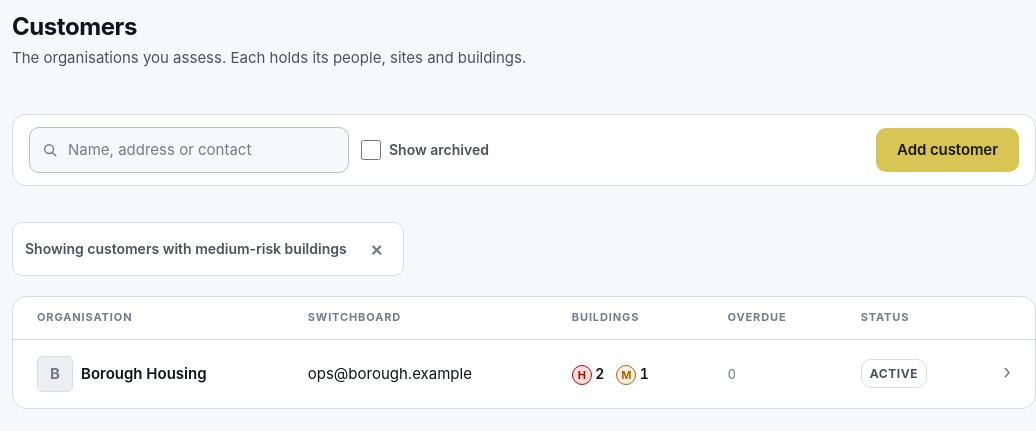
Test: CustomersList risk visibility › ?risk=medium hides customers without that level, and the chip dismisses
This screenshot has width=1036, height=431.
Expected: the text "Showing customers with medium-risk buildings" is shown, [25,240,347,257]
Expected: the text "Borough Housing" is shown, [81,362,206,386]
Click the button named "Clear filter": (377, 249) [355,227,399,271]
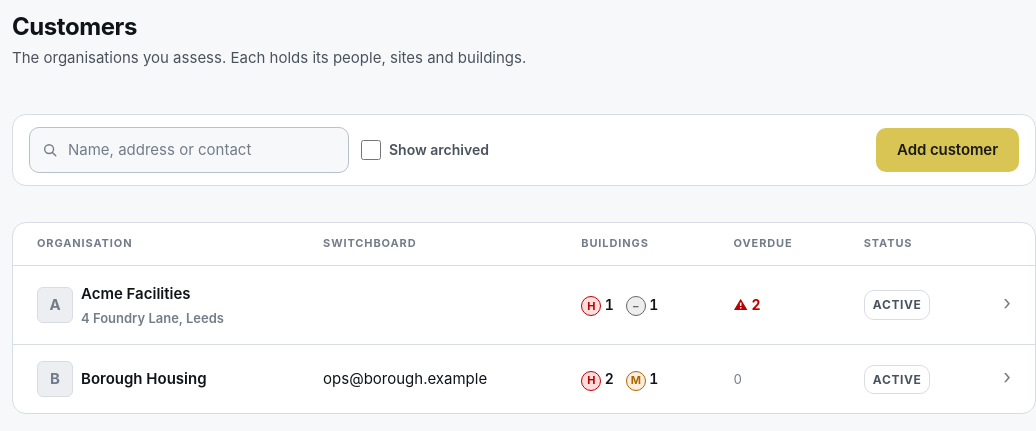
Expected: the text "Acme Facilities" is shown, [81,284,191,303]
Expected: the text "Showing customers with medium-risk buildings" is gone
